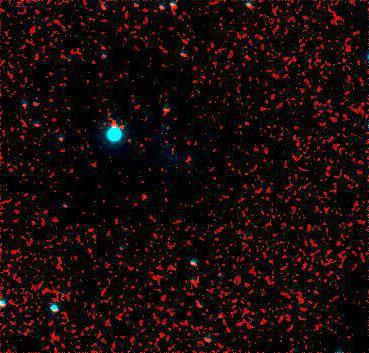star: (129, 181, 159, 211)
